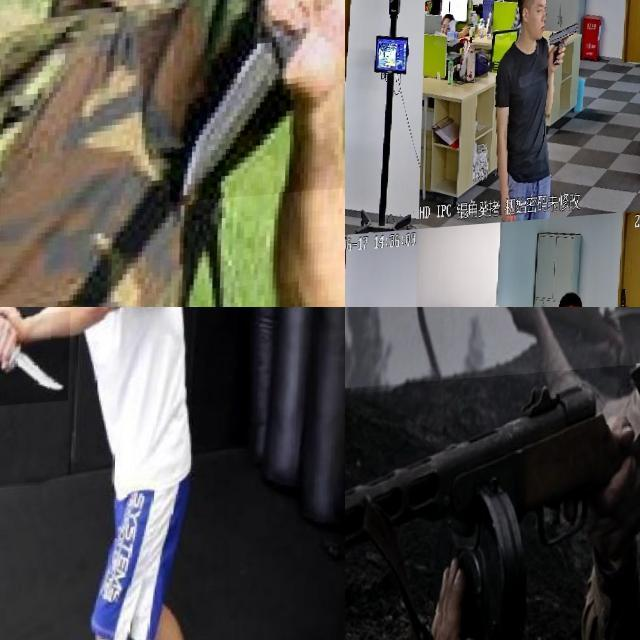-: (172, 0, 345, 206), (0, 317, 72, 412)
gun-knife-thesis - v11 Yolov5 augmented: (345, 366, 640, 640), (345, 307, 640, 429), (543, 24, 579, 70), (345, 0, 360, 34)
